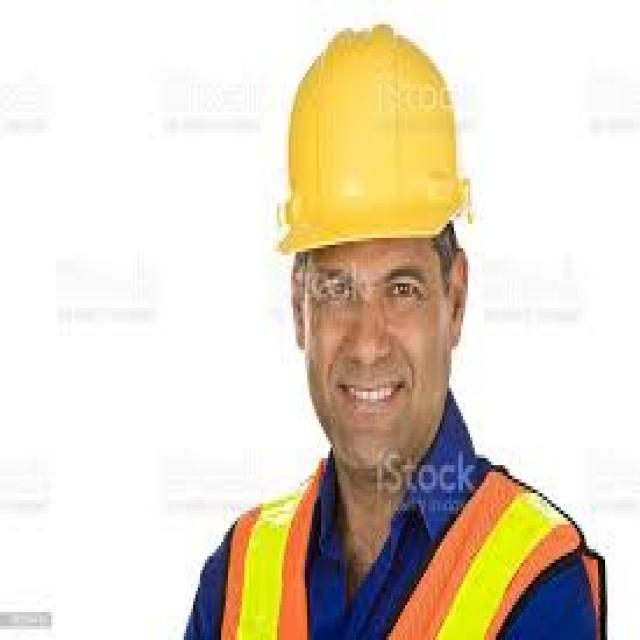Reflective-Jacket: (218, 447, 607, 640)
Safety-Helmet: (272, 21, 480, 259)
